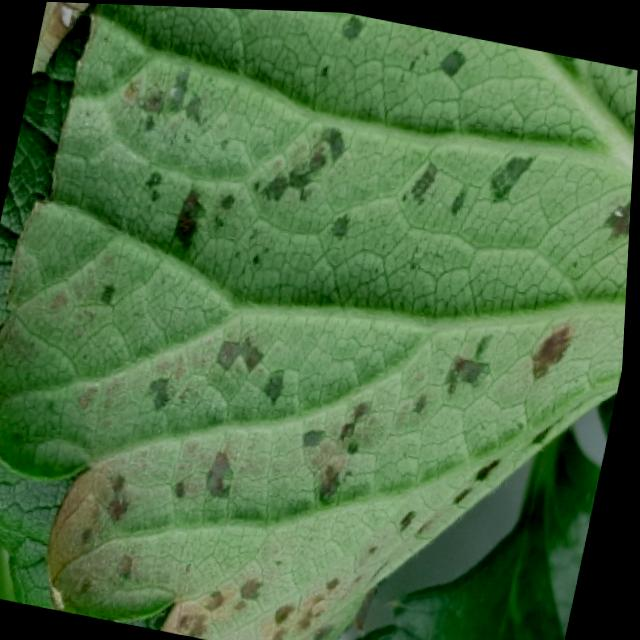Angular Leafspot: (0, 3, 638, 640), (31, 1, 95, 79)
